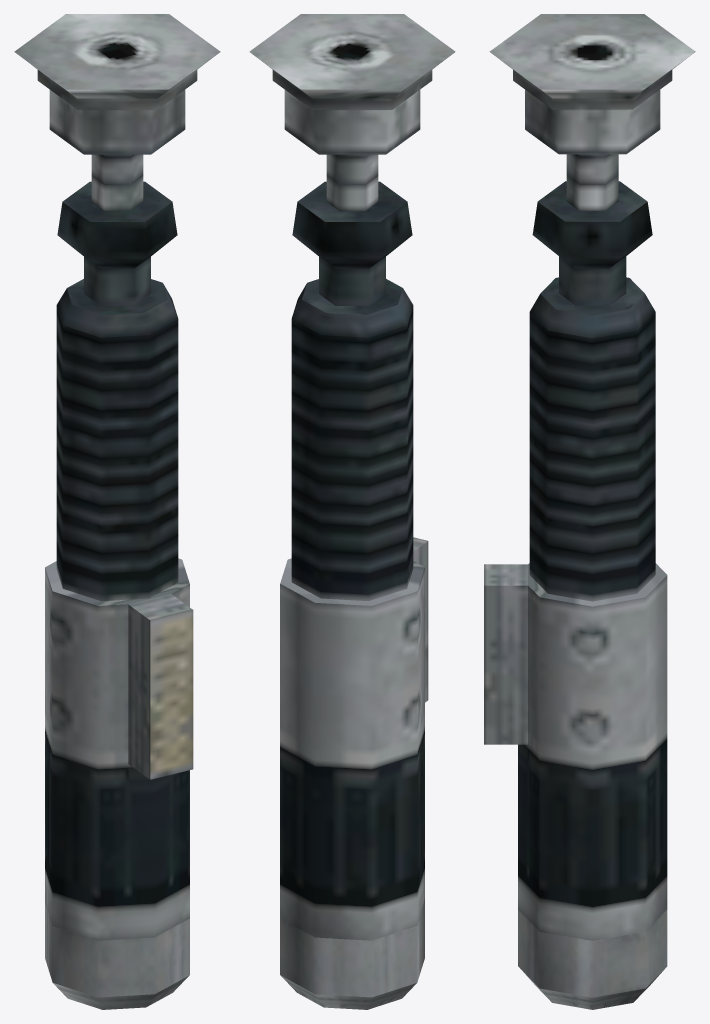
Rendered from wp_mle_sword_lightsaber_ben_l0.fbx.
3 renders of one model, left to right at view 1: azimuth 30°, elevation 25°; view 2: azimuth 150°, elevation 25°; view 3: azimuth 270°, elevation 25°, orthographic.
Parts seen in each view (by area): view 1: mesh_node; view 2: mesh_node; view 3: mesh_node.
Boxes of the visible parts, box(x1,y1,x2,y2) form: mesh_node: box(14, 14, 220, 1009); mesh_node: box(249, 14, 455, 1009); mesh_node: box(484, 14, 695, 1009).
Size of the model in its own units: 0.0528 by 0.3042 by 0.0625.
Materials: 1 (1 with a texture image).
